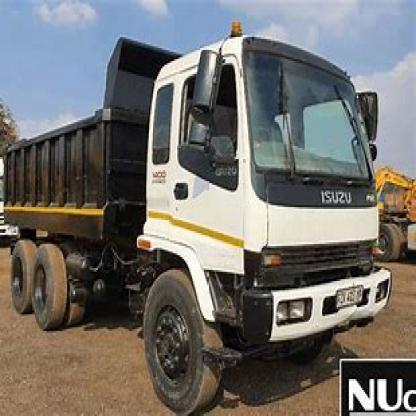dump_truck: (0, 19, 391, 414)
